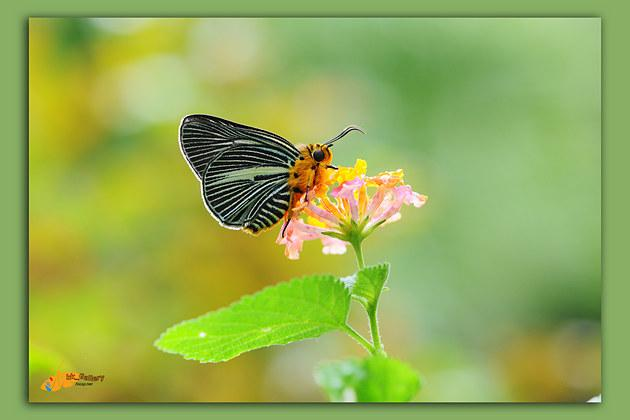Hesperiidae: (175, 115, 368, 236)
